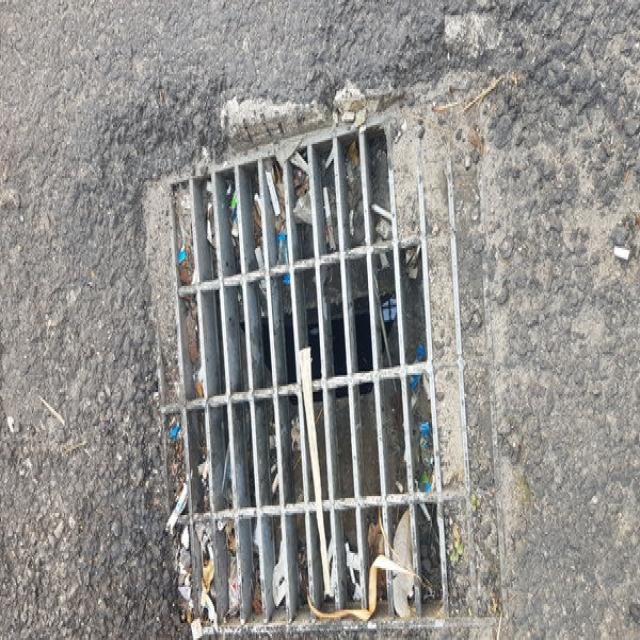drain_area: (199, 222, 385, 515)
drain_full: (149, 100, 507, 626)
